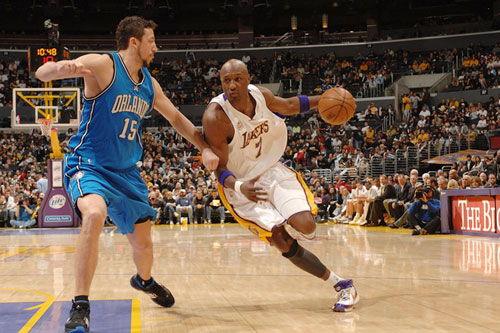ball: (318, 87, 357, 126)
